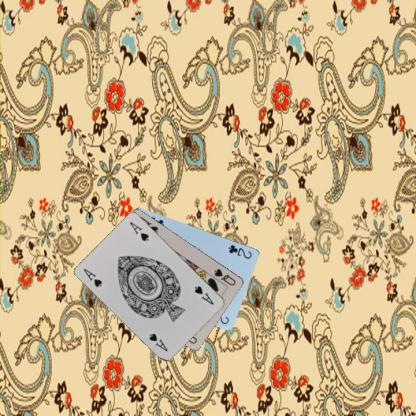2c: (226, 242, 253, 260)
As: (192, 283, 215, 306), (81, 266, 103, 288)
Qs: (211, 266, 237, 287)
